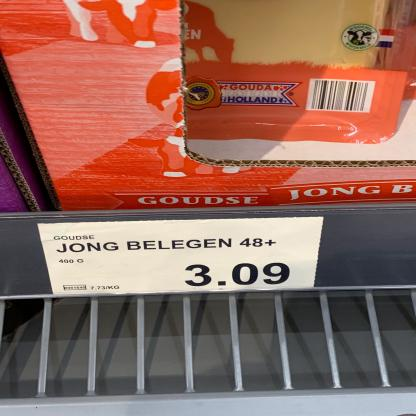prtg: (39, 218, 323, 296)
